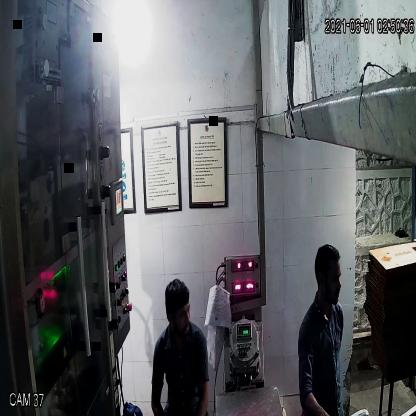no_goggles: (309, 266, 346, 290), (163, 302, 195, 326)
